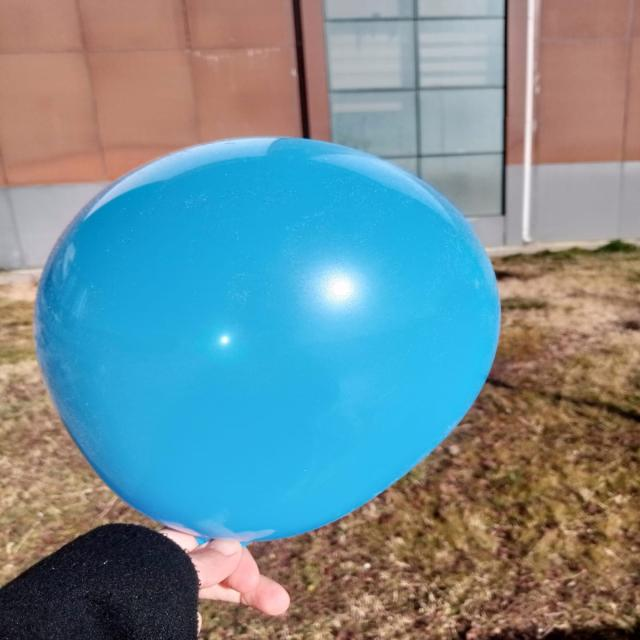balloon: (33, 138, 500, 544)
